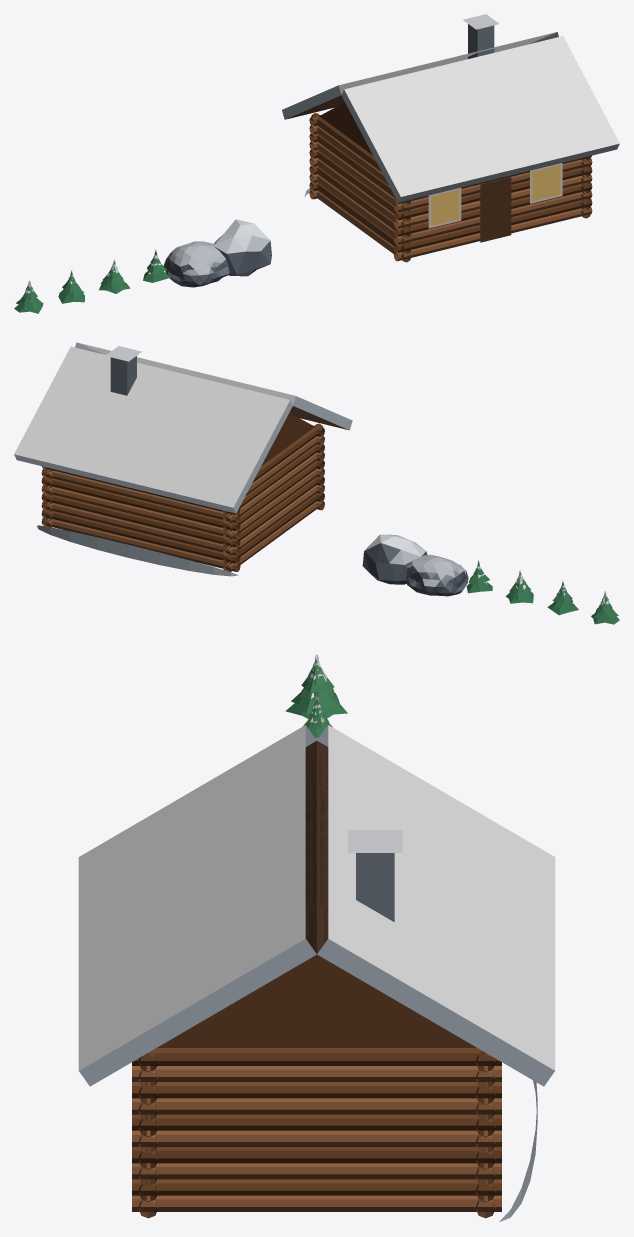
The model's file is scenery.glb.
3 renders of one model, top to bottom at view 1: azimuth 30°, elevation 25°; view 2: azimuth 150°, elevation 25°; view 3: azimuth 270°, elevation 25°, orthographic. The views are drawn at different scales.
Visible parts, largest first — view 1: Chalet, Rock, Cliff, PineC, PineA, PineB, PineFar; view 2: Chalet, Cliff, Rock, PineC, PineB, PineA, PineFar; view 3: Chalet, PineA.
Part boxes in pixels (bbox=[...]): Chalet: bbox=[282, 14, 619, 262]; Rock: bbox=[163, 241, 230, 287]; Cliff: bbox=[213, 219, 271, 276]; PineC: bbox=[99, 259, 130, 293]; PineA: bbox=[14, 280, 43, 313]; PineB: bbox=[58, 270, 84, 303]; PineFar: bbox=[143, 249, 170, 282]; Chalet: bbox=[14, 342, 352, 576]; Cliff: bbox=[362, 534, 427, 584]; Rock: bbox=[406, 554, 468, 596]; PineC: bbox=[505, 570, 533, 603]; PineB: bbox=[547, 580, 578, 615]; PineA: bbox=[591, 591, 619, 624]; PineFar: bbox=[466, 560, 492, 593]; Chalet: bbox=[78, 725, 555, 1222]; PineA: bbox=[285, 654, 347, 718].
Bounding box in the file's own units: 19.34 × 5.91 × 7.35.
